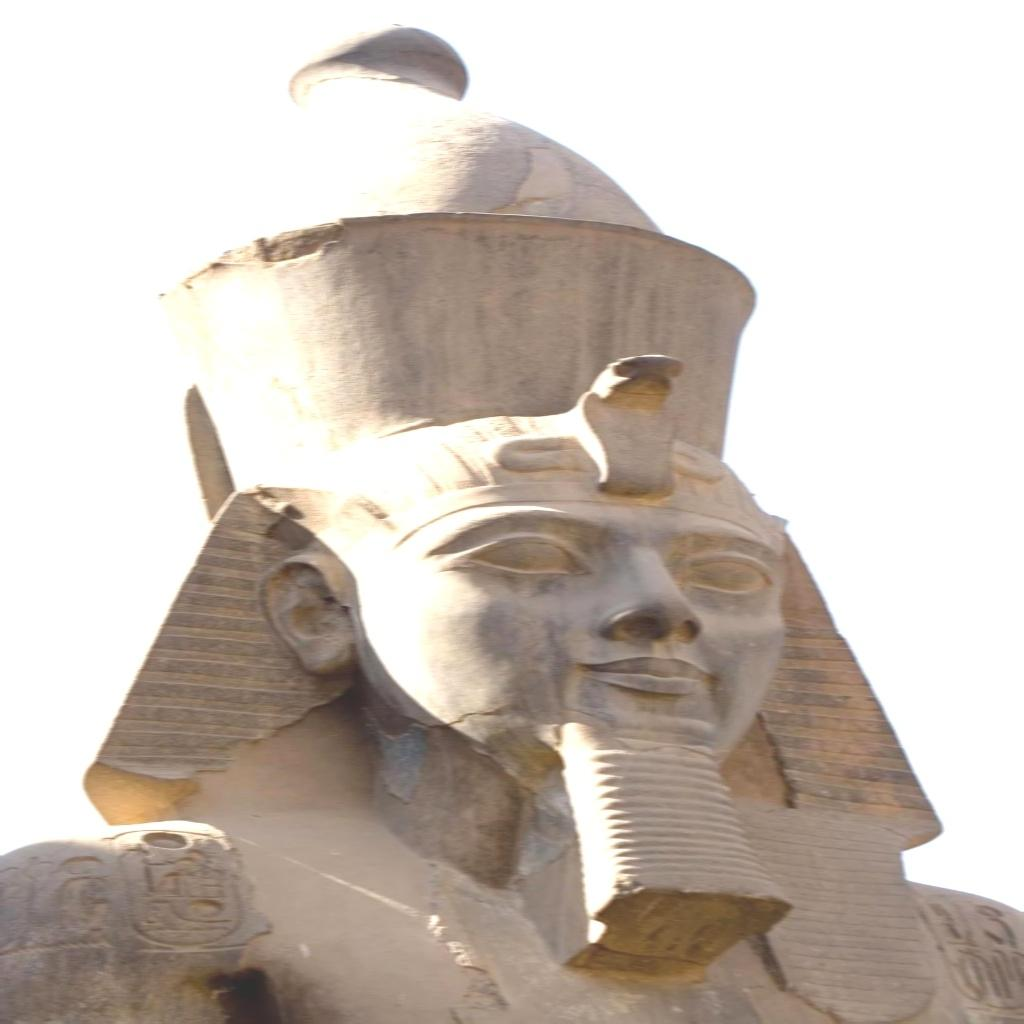Statue of King Ramses II Luxor Temple: (4, 20, 1018, 1022)
